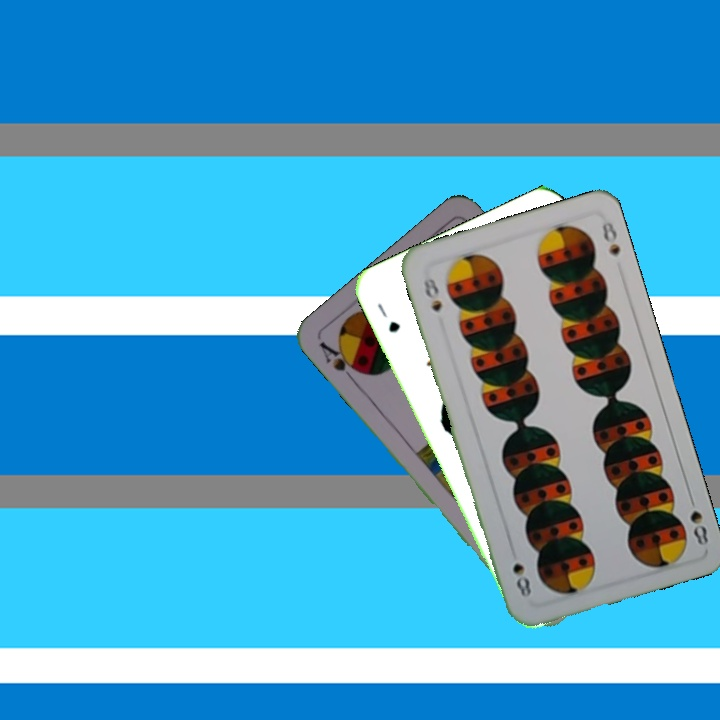GU: (373, 299, 403, 335)
S8: (684, 490, 711, 549), (419, 269, 445, 314)
SA: (315, 337, 367, 387)
